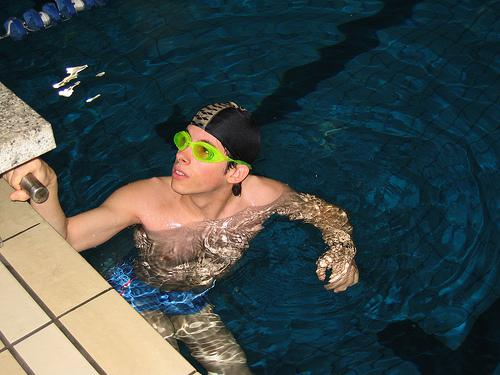human: (19, 98, 360, 374)
